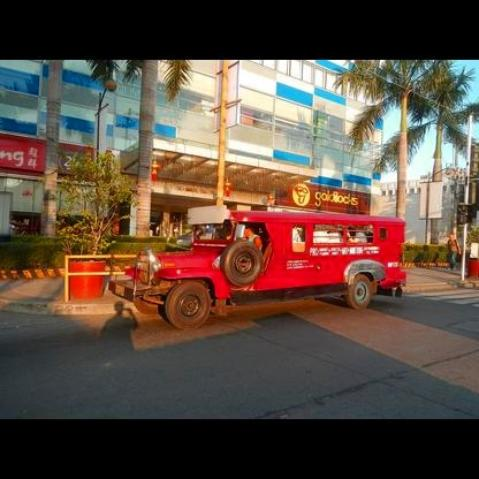jeepney: (133, 177, 427, 352)
